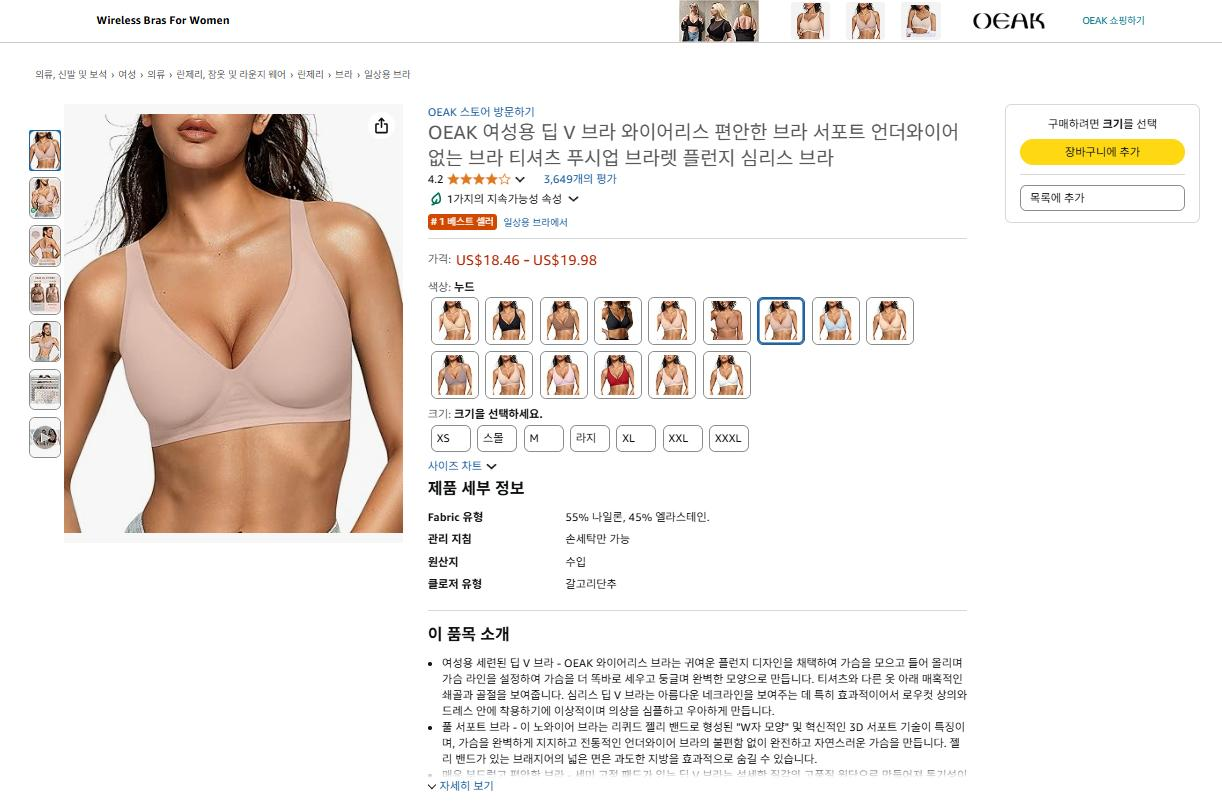button: (1021, 139, 1187, 161), (647, 298, 706, 349), (811, 296, 861, 346), (429, 297, 480, 346), (703, 294, 753, 343), (863, 296, 916, 342), (703, 352, 752, 401), (539, 353, 588, 401), (483, 296, 533, 343), (757, 296, 806, 343), (432, 353, 478, 401), (596, 348, 642, 396), (422, 107, 538, 126), (486, 353, 531, 399), (648, 350, 694, 394), (593, 300, 640, 342), (541, 297, 582, 343), (701, 420, 753, 450), (542, 170, 628, 186), (611, 427, 659, 454), (478, 422, 520, 451), (429, 426, 473, 451), (663, 424, 703, 451), (523, 427, 566, 452), (570, 426, 612, 451), (366, 111, 392, 141)
checkbox: (427, 187, 582, 208), (422, 773, 503, 797), (424, 457, 500, 472), (424, 176, 529, 186)
input_field: (1016, 184, 1191, 213)
popup: (0, 0, 1222, 42)
